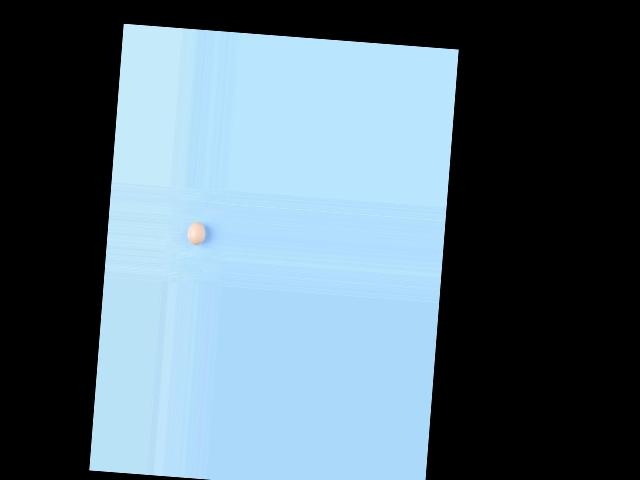egg: (186, 221, 207, 245)
